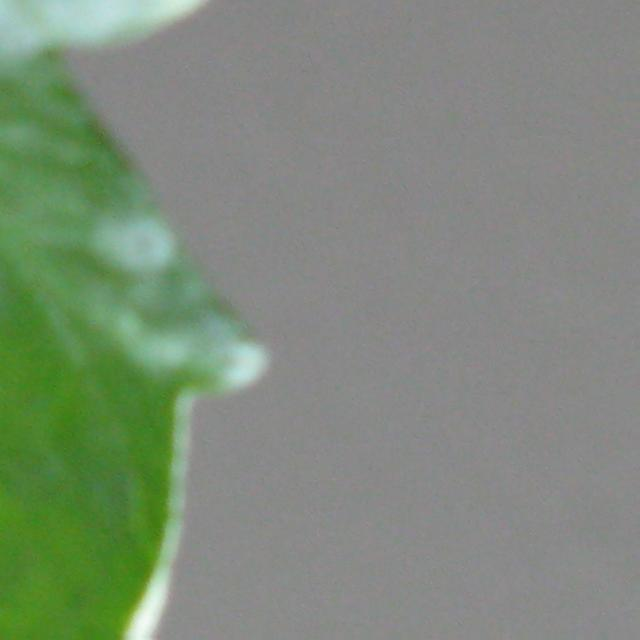Tomato leaf: (0, 0, 262, 640)
